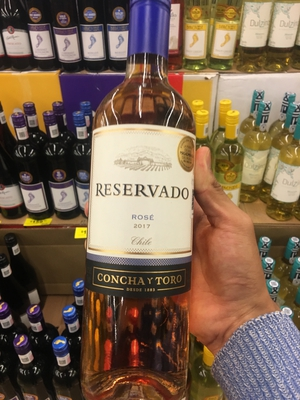reservado rose: (90, 17, 194, 395)
